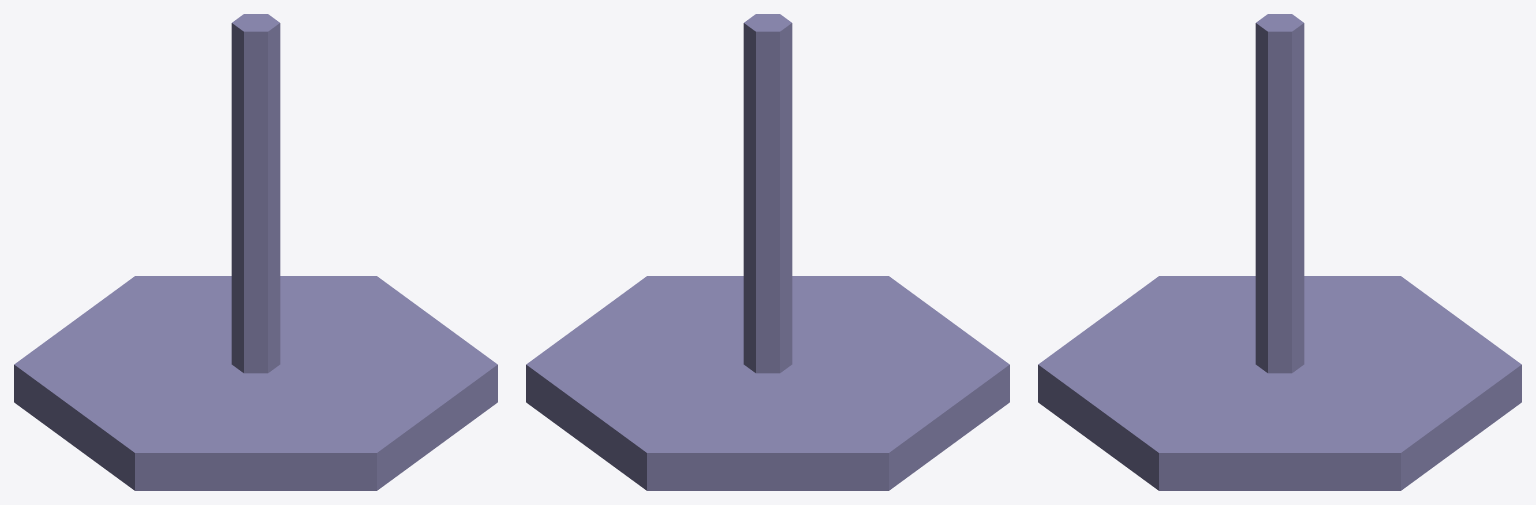
The model's file is PowerupStand.glb.
3 renders of one model, left to right at view 1: azimuth 30°, elevation 25°; view 2: azimuth 150°, elevation 25°; view 3: azimuth 270°, elevation 25°, orthographic.
Parts seen in each view (by area): view 1: mergedBlocks(Clone); view 2: mergedBlocks(Clone); view 3: mergedBlocks(Clone).
Part boxes in pixels (bbox=[...]): mergedBlocks(Clone): bbox=[14, 14, 497, 490]; mergedBlocks(Clone): bbox=[526, 14, 1009, 490]; mergedBlocks(Clone): bbox=[1038, 14, 1521, 490].
Size of the model in its own units: 1 by 1 by 1.15.
